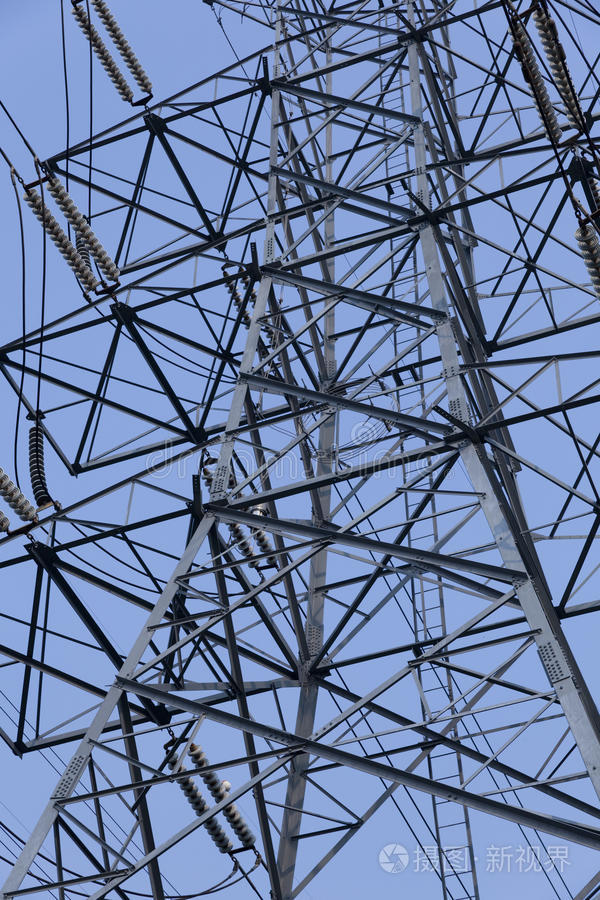insulator: (24, 176, 121, 289), (164, 739, 256, 855), (511, 8, 583, 144), (75, 1, 156, 101), (1, 470, 42, 521), (27, 423, 53, 500), (578, 225, 600, 280)
